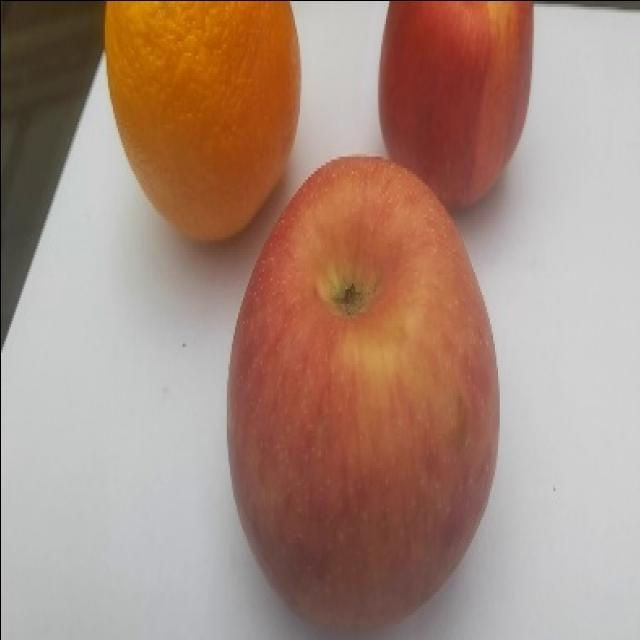Apple: (225, 154, 500, 634), (377, 0, 534, 212)
Orange: (102, 0, 301, 243)
